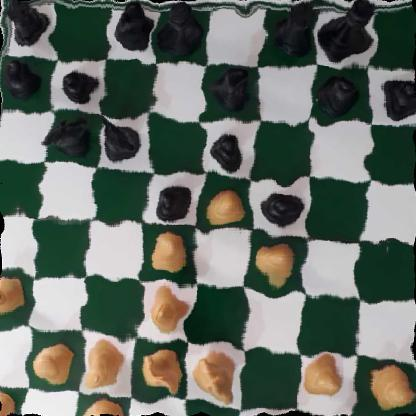black-bishop: (114, 0, 156, 56), (212, 67, 256, 116)
black-king: (320, 0, 371, 60)
black-knight: (45, 113, 95, 158), (96, 113, 142, 158)
black-pawn: (151, 180, 199, 223), (1, 56, 48, 98), (375, 74, 416, 122), (315, 69, 361, 111), (261, 182, 302, 227), (209, 132, 250, 173), (61, 64, 97, 107)
black-queen: (158, 0, 207, 56)
black-rook: (1, 0, 54, 53), (270, 0, 316, 59)
white-bishop: (146, 284, 190, 330), (80, 394, 127, 416)
white-knight: (190, 349, 238, 404), (140, 347, 184, 403)
white-pawn: (366, 358, 413, 409), (299, 352, 343, 400), (199, 185, 247, 226), (33, 336, 72, 386), (150, 227, 189, 275), (253, 237, 295, 281), (0, 277, 28, 317)
white-queen: (82, 337, 126, 392)
white-rook: (0, 384, 18, 416)
